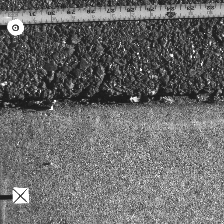circle: (6, 18, 25, 35)
crack: (1, 92, 223, 112)
square: (12, 187, 29, 204)
